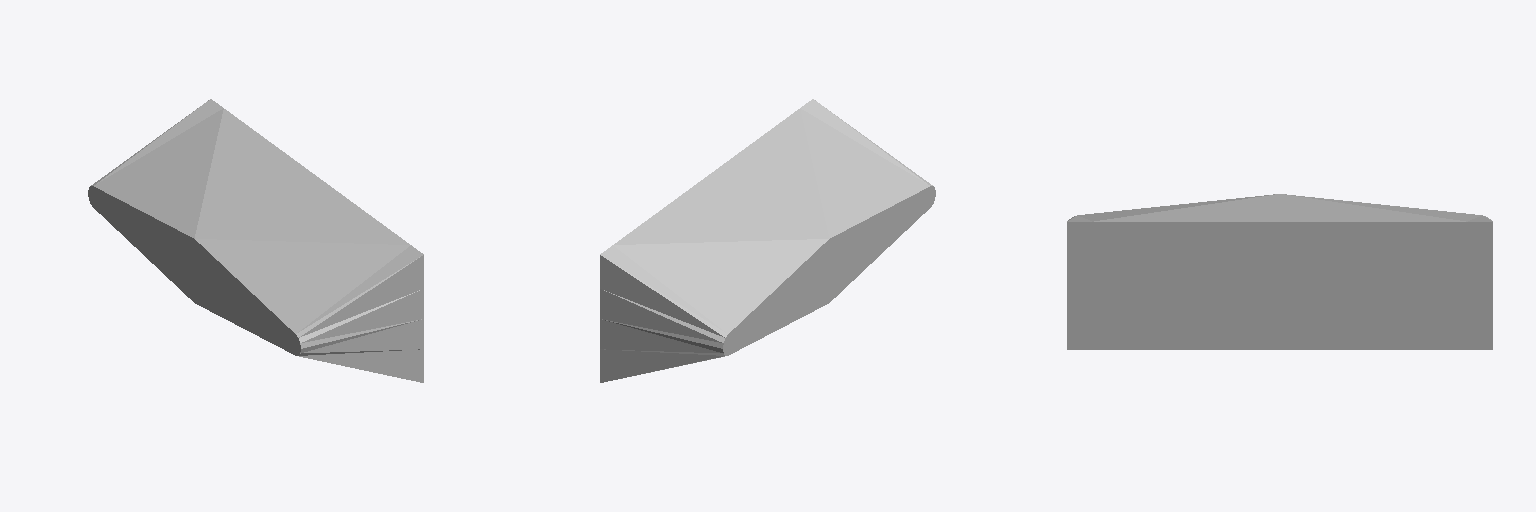
The model's file is fant_wing_2-3_block.obj.
The picture shows the model from 3 angles: view 1: azimuth 30°, elevation 25°; view 2: azimuth 150°, elevation 25°; view 3: azimuth 270°, elevation 25°; orthographic projection.
Visible parts, largest first — view 1: fant_wing_2-3_block_Cube.012; view 2: fant_wing_2-3_block_Cube.012; view 3: fant_wing_2-3_block_Cube.012.
Part boxes in pixels (left/top/right/bottom): fant_wing_2-3_block_Cube.012: left=88, top=99, right=423, bottom=382; fant_wing_2-3_block_Cube.012: left=600, top=99, right=935, bottom=382; fant_wing_2-3_block_Cube.012: left=1067, top=194, right=1492, bottom=349.
Bounding box in the file's own units: 1 × 1 × 3.